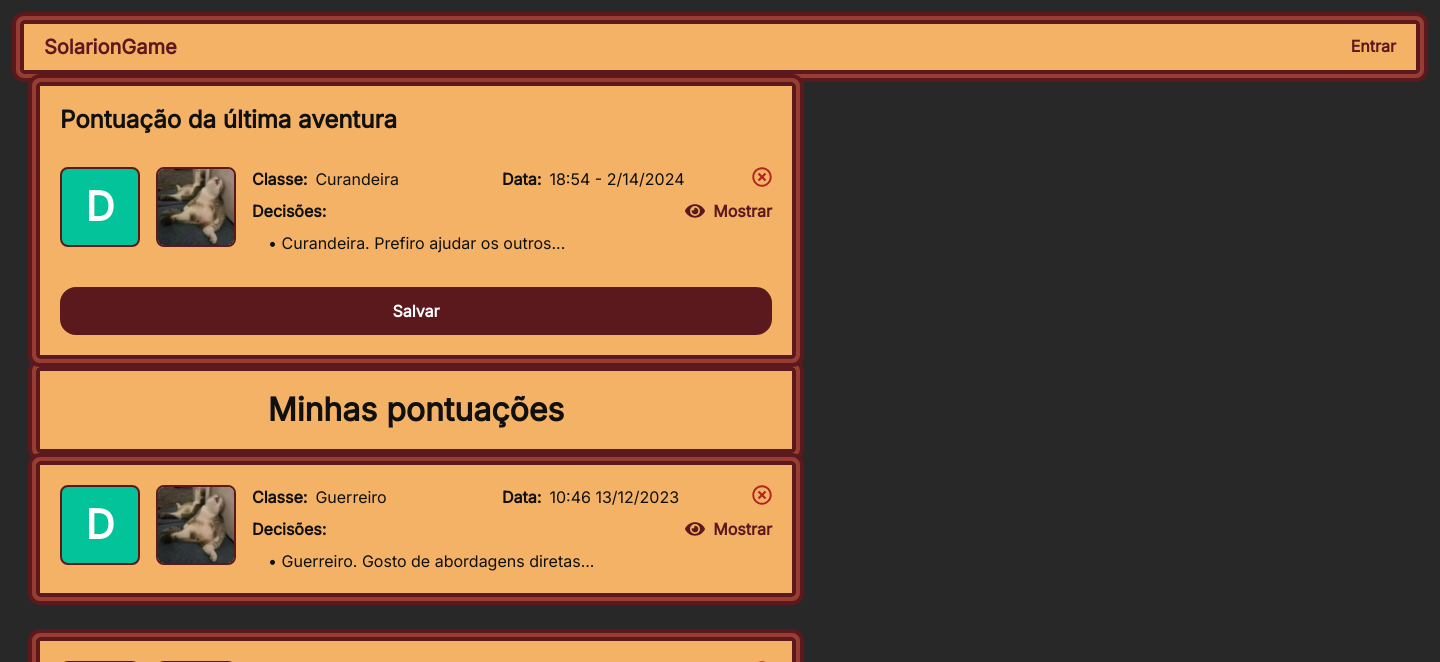
Scenario: MyScores Page › when have last scenario › and when finished › and when delete modal is open › and when click on the main button › should hide the save card
Expected: the heading "Pontuação da última aventura" is shown, [60,105,397,134]
Click the 1st icon at (762, 177), box [752,167,772,187]
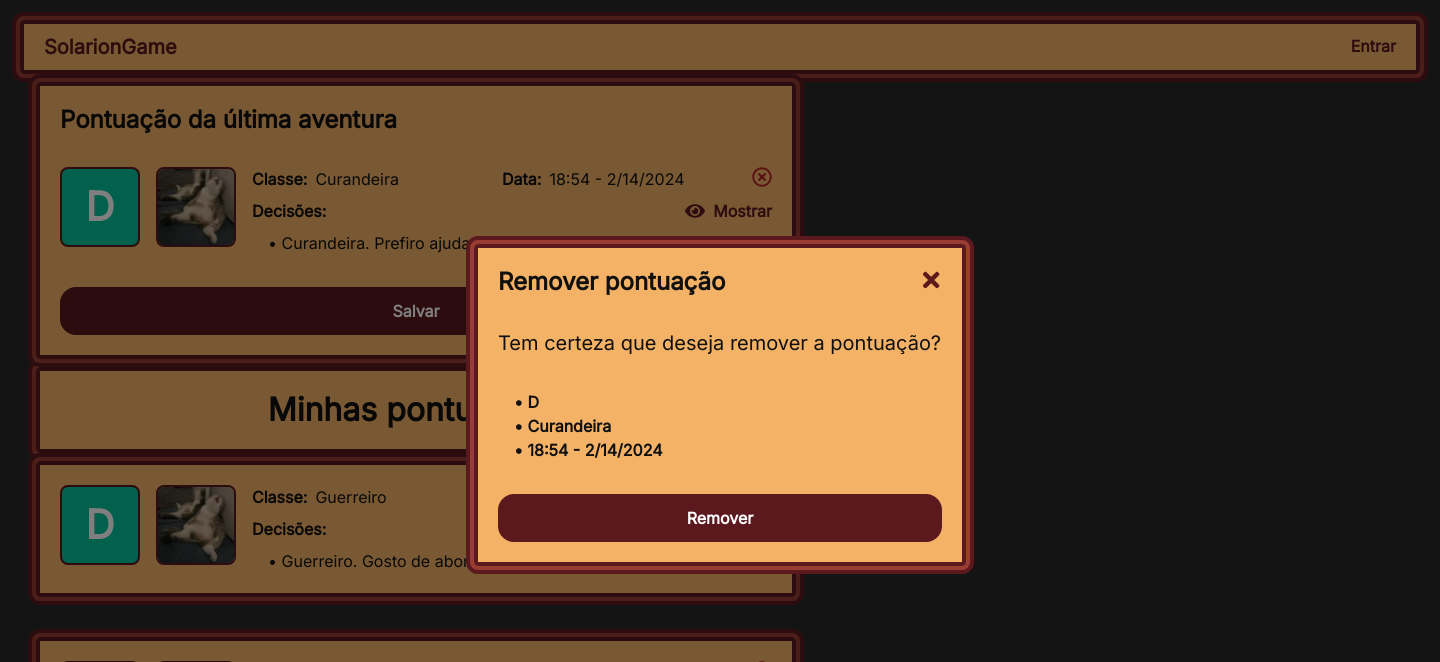
Click the button "Remover" at (720, 518), box [498,494,942,542]
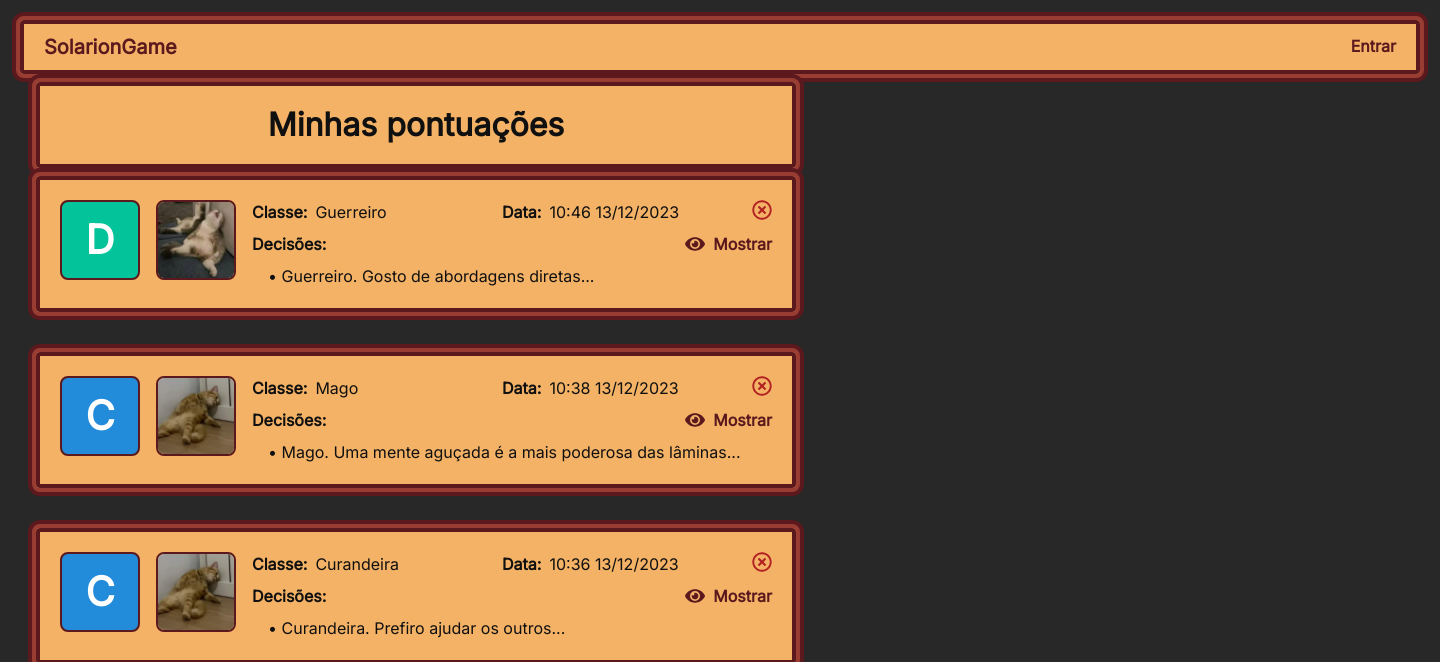
Expected: the heading "Pontuação da última aventura" is gone
